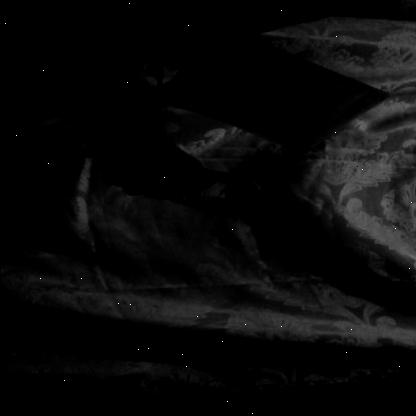Plastic Bottle: (37, 149, 287, 242)
